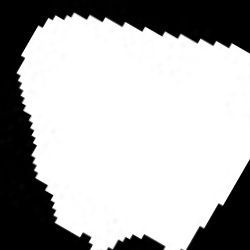spot: (17, 16, 248, 248)
